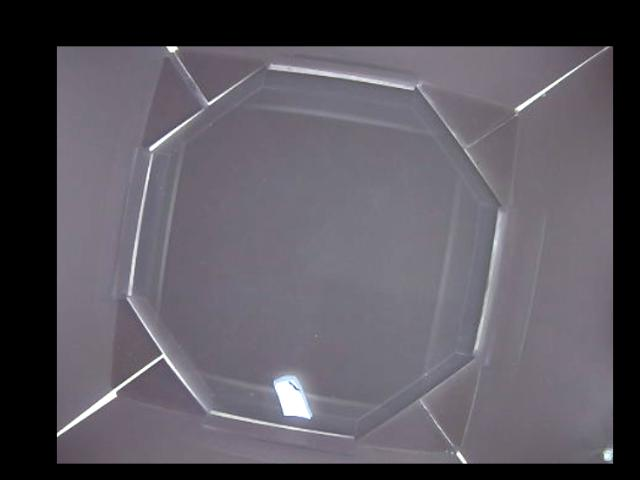China: (271, 370, 309, 421)
